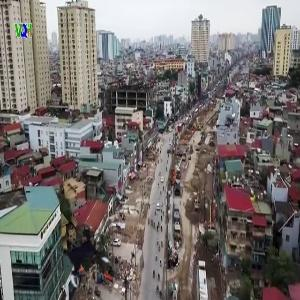drone: (53, 224, 122, 293)
